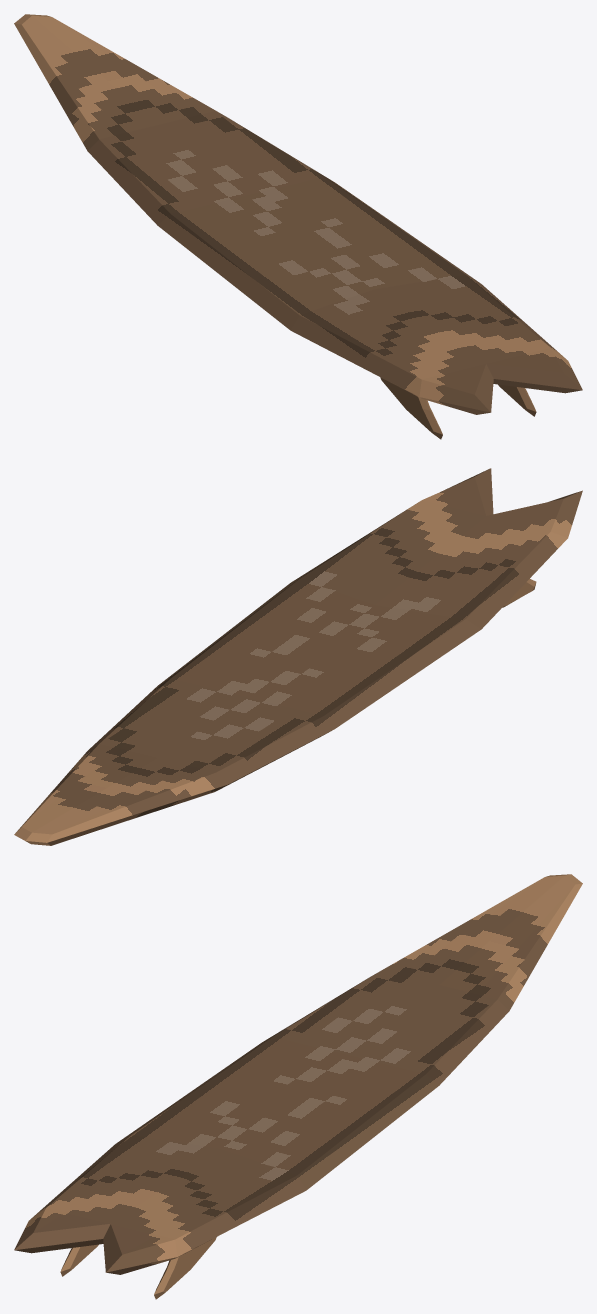
Rendered from SM_DefaultSurfBoard.fbx.
3 views of the same model, one above another, from view 1: azimuth 30°, elevation 25°; view 2: azimuth 150°, elevation 25°; view 3: azimuth 330°, elevation 25° (orthographic).
Parts seen in each view (by area): view 1: DefaultSurfBoard; view 2: DefaultSurfBoard; view 3: DefaultSurfBoard.
Boxes of the visible parts, x1,y1,x2,y2 form: DefaultSurfBoard: (14,14,582,439); DefaultSurfBoard: (14,468,582,845); DefaultSurfBoard: (14,874,582,1299).
Bounding box in the file's own units: 176 × 69.52 × 815.
